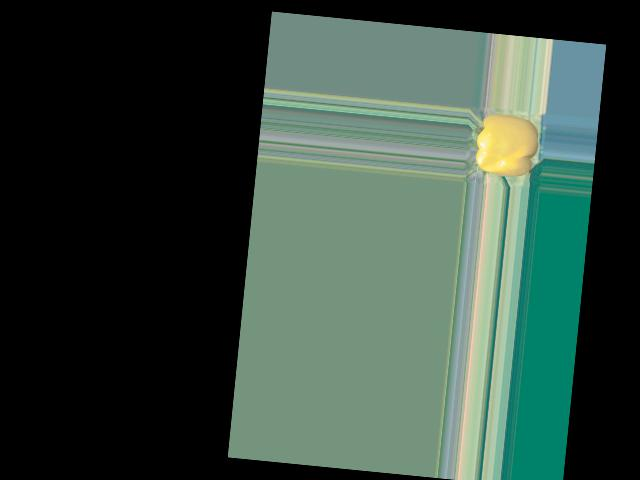bell_pepper: (467, 108, 541, 184)
